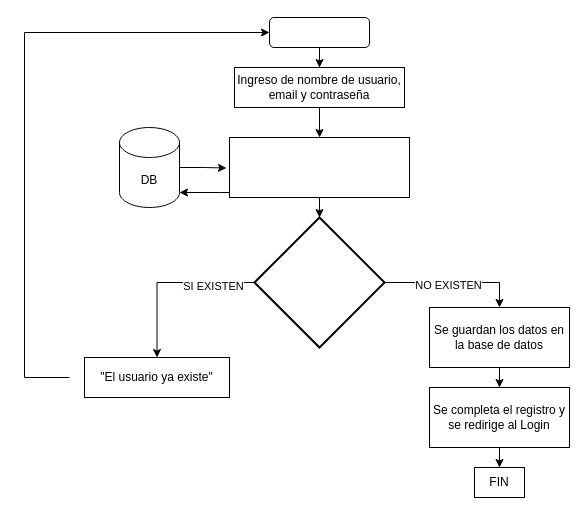
Image size: 587x515. Some labels were removed from this diagram. The box of each missing label's shape, as (x1, y1, x2, y2) in pixels:
INICIO: (268, 16, 370, 48)
Se consulta a la base de datos para verificar si los datos ya estan ingresados: (228, 136, 410, 198)
Si los datos ya existen: (253, 216, 385, 348)
